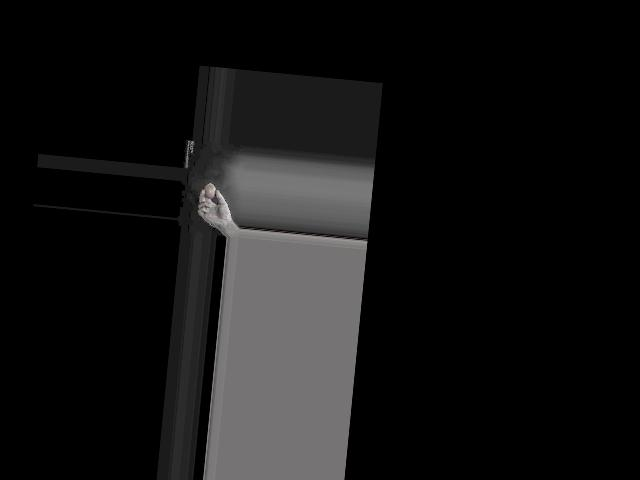egg: (203, 183, 216, 200)
